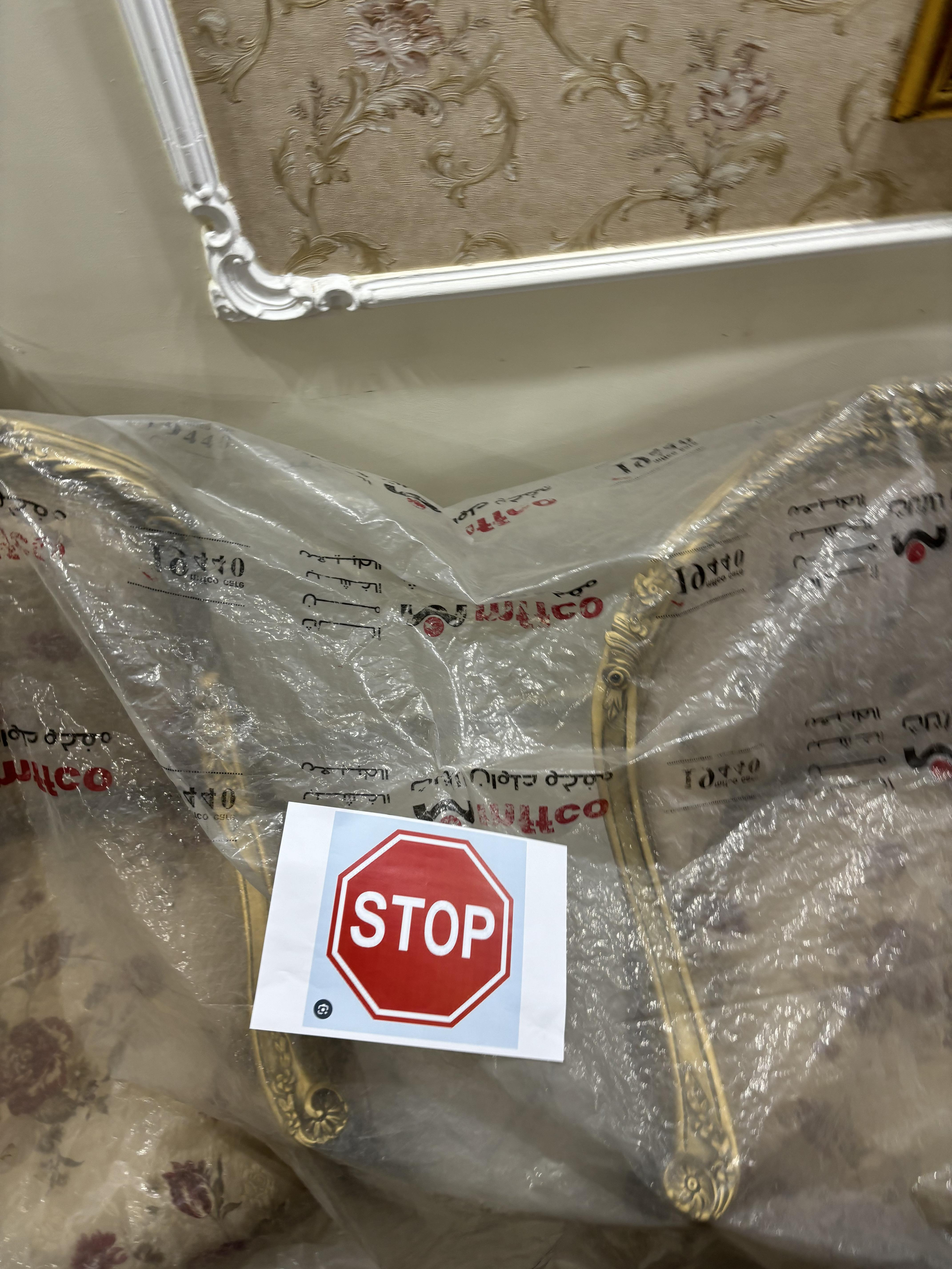Stop: (328, 822, 515, 1037)
